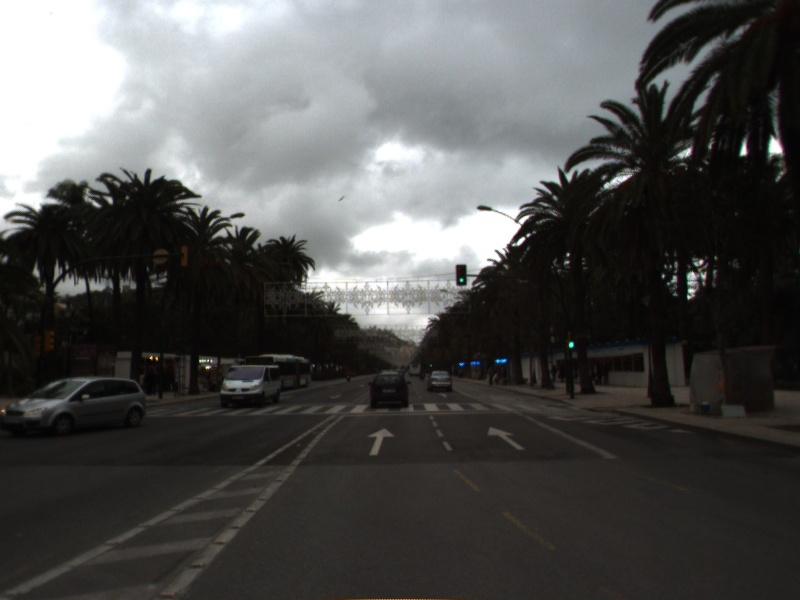STRAIGHT: (485, 424, 528, 452), (365, 426, 398, 457)
